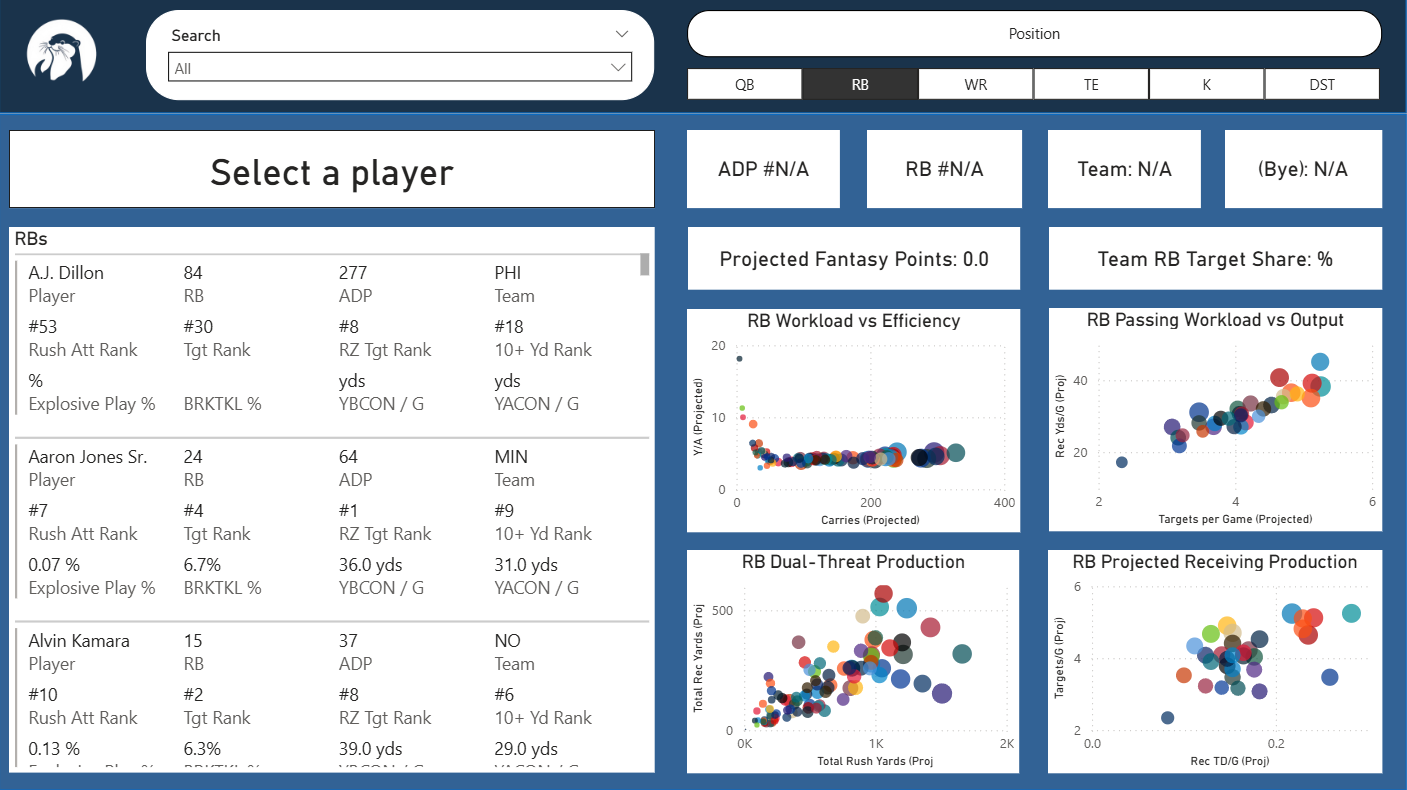

The page's visual inventory and layout, read from the dashboard file:
{"tool":"powerbi","page":{"name":"RB","canvas":[1280,720],"ordinal":2},"visuals":[{"type":"group","id":"g1","title":"Group 15","box":[0,0,1279.7,720],"z":0},{"type":"shape","box":[0,0,1279.7,720],"z":0,"group":"g1"},{"type":"shape","box":[141.3,87.8,624,614.9],"z":0,"group":"g4"},{"type":"shape","box":[16.3,5.4,101.4,697.4],"z":1000,"group":"g3"},{"type":"slicer","fields":{"Values":["all_player_data.Player"]},"box":[443.5,21.7,321.8,48],"z":1000,"group":"g6"},{"type":"pageNavigator","box":[26.8,95.1,80.5,594.1],"z":1000,"group":"g5"},{"type":"shape","box":[1039.7,317.9,225,180.2],"z":1000},{"type":"group","id":"g2","title":"Group 13","box":[141.3,0,1053.3,82.4],"z":1500,"group":"g11"},{"type":"group","id":"g3","title":"Group 5","box":[16.3,5.4,101.4,697.4],"z":2000,"group":"g11"},{"type":"group","id":"g4","title":"Group 2","box":[141.3,87.8,1123.3,614.9],"z":2000},{"type":"shape","box":[790.7,87.8,473.7,215.4],"z":2000,"group":"g4"},{"type":"group","id":"g5","title":"Group 1","box":[26.8,95.1,80.5,594.1],"z":2000,"group":"g7"},{"type":"cardVisual","fields":{"Data":["full_rb_data.RB_Bye_Label"]},"box":[829.5,129.4,99,31.7],"z":3000,"group":"g4"},{"type":"shape","box":[1039.7,517,225,180.2],"z":3000},{"type":"cardVisual","fields":{"Data":["full_rb_data.Selected_RB"]},"box":[790.7,87.8,473.7,48],"z":4000,"group":"g4"},{"type":"shape","box":[791.5,317.9,225,180.2],"z":4000},{"type":"group","id":"g6","title":"Group 9","box":[141.3,14.5,624,63.4],"z":5000,"group":"g2"},{"type":"textbox","box":[141.3,14.5,283.4,40.8],"z":5000,"group":"g6"},{"type":"shape","box":[960,279.8,141.5,28.1],"z":5000,"group":"g4"},{"type":"shape","box":[791.5,517.1,225,180.2],"z":5000},{"type":"image","box":[937.4,0,81.5,82.4],"z":5001,"group":"g10"},{"type":"image","box":[1030.7,0,86.9,77.9],"z":5003,"group":"g9"},{"type":"textbox","box":[142,46.2,283.4,31.7],"z":6000,"group":"g6"},{"type":"multiRowCard","title":"RBs","fields":{"Values":["full_rb_data.Player","full_rb_data.RB","full_rb_data.Overall","full_rb_data.MISC FPTS (Projected)","full_rb_data.Rank_Rush_Att_Label","full_rb_data.Rank_Total_Targets_Label","full_rb_data.Rank_Total_RZ_Targets_Label","full_rb_data.Rank_Total_10yd_Plays_Label","full_rb_data.RB_Explosive_Label","full_rb_data.RB_Broken_Tackles_Percentage","full_rb_data.RB_YBCON_Per_Game_Label","full_rb_data.RB_YACON_Per_Game_Label"]},"box":[150.3,96,608,601],"z":6000},{"type":"cardVisual","fields":{"Data":["full_rb_data.RB_Team_Label"]},"box":[790.7,129.4,60.1,31.7],"z":6000,"group":"g4"},{"type":"shape","box":[791.9,146,472.8,31.7],"z":7000,"group":"g4"},{"type":"scatterChart","title":"RB Workload vs Efficiency (Proj)","fields":{"X":["full_rb_data.RUSHING ATT (Projected)"],"Series":["full_rb_data.Team"],"Size":["full_rb_data.RB__Rushing_TD_Per_Game_Proj"],"Y":["full_rb_data.RB_Yards_Per_Attempt"]},"box":[791.5,322.4,225,175],"z":7000},{"type":"image","box":[25.2,5.4,83.7,89.7],"z":8000,"group":"g7"},{"type":"shape","box":[828.2,222.5,142,28],"z":8000,"group":"g4"},{"type":"scatterChart","title":"RB Passing Workload vs Output (Proj)","fields":{"Series":["full_rb_data.Team"],"X":["full_rb_data.RB_Targets_Per_Game_Proj"],"Y":["full_rb_data.RB__Receiving_Yards_Per_Game_Proj"],"Size":["full_rb_data.RB__Receiving_TD_Per_Game_Proj"]},"box":[1039.7,322,225,175],"z":8000},{"type":"shape","box":[1092.8,222.5,142,28],"z":9000,"group":"g4"},{"type":"scatterChart","title":"RB Dual-Threat Production (Proj)","fields":{"Series":["full_rb_data.Team"],"X":["full_rb_data.RUSHING YDS (Projected)"],"Y":["full_rb_data.RECEIVING YDS (Projected)"],"Size":["full_rb_data.RB_Total_TDs_Per_Game_Proj"]},"box":[791.5,522.6,225,175],"z":9000},{"type":"scatterChart","title":"RB Receiving Production (Proj)","fields":{"Series":["full_rb_data.Team"],"X":["full_rb_data.RB__Receiving_TD_Per_Game_Proj"],"Y":["full_rb_data.RB_Targets_Per_Game_Proj"],"Size":["full_rb_data.RB__Receiving_Yards_Per_Game_Proj"]},"box":[1039,522,225,175],"z":10000},{"type":"shape","box":[1093.2,9.1,101.4,64.3],"z":11000,"group":"g8"},{"type":"card","fields":{"Values":["full_rb_data.RB_Target_Share_Label"]},"box":[1082.3,96,164.8,65.2],"z":11000},{"type":"group","id":"g7","title":"Group 4","box":[25.2,5.4,83.7,683.8],"z":11001,"group":"g3"},{"type":"group","id":"g8","title":"Group 10","box":[1093.2,9.1,101.4,64.3],"z":11001,"group":"g9"},{"type":"group","id":"g9","title":"Group 11","box":[1030.7,0,163.9,77.9],"z":11002,"group":"g10"},{"type":"group","id":"g10","title":"Group 12","box":[937.4,0,257.2,82.4],"z":11003,"group":"g2"},{"type":"group","id":"g11","title":"Group 14","box":[16.3,0,1178.3,702.8],"z":11005,"group":"g1"},{"type":"image","box":[1164.7,2.7,95.1,77.9],"z":12000},{"type":"card","fields":{"Values":["full_rb_data.Player_RB__Rank_Label"]},"box":[790,166,209,70.6],"z":13000},{"type":"card","fields":{"Values":["full_rb_data.RB_ADP_Label"]},"box":[1093.1,166,142,70.6],"z":14000},{"type":"card","fields":{"Values":["full_rb_data.RB_Fantasy_Point_Label"]},"box":[927,225,204,66],"z":15000}]}

Visuals, with their boxes in screenshot pixels (x1, y1, x2, y2), scaled from the page's 1280x720 canvas onto the 1407x790 screenshot:
"Group 15" group: BBox(0, 0, 1406, 789)
shape: BBox(0, 0, 1406, 789)
shape: BBox(155, 96, 841, 771)
shape: BBox(18, 6, 129, 771)
slicer - all_player_data.Player: BBox(488, 24, 841, 76)
pageNavigator: BBox(29, 104, 118, 756)
shape: BBox(1143, 349, 1390, 547)
"Group 13" group: BBox(155, 0, 1313, 90)
"Group 5" group: BBox(18, 6, 129, 771)
"Group 2" group: BBox(155, 96, 1390, 771)
shape: BBox(869, 96, 1390, 333)
"Group 1" group: BBox(29, 104, 118, 756)
cardVisual - full_rb_data.RB_Bye_Label: BBox(912, 142, 1021, 177)
shape: BBox(1143, 567, 1390, 765)
cardVisual - full_rb_data.Selected_RB: BBox(869, 96, 1390, 149)
shape: BBox(870, 349, 1117, 547)
"Group 9" group: BBox(155, 16, 841, 85)
textbox: BBox(155, 16, 467, 61)
shape: BBox(1055, 307, 1211, 338)
shape: BBox(870, 567, 1117, 765)
image: BBox(1030, 0, 1120, 90)
image: BBox(1133, 0, 1228, 85)
textbox: BBox(156, 51, 468, 85)
"RBs" multiRowCard: BBox(165, 105, 834, 765)
cardVisual - full_rb_data.RB_Team_Label: BBox(869, 142, 935, 177)
shape: BBox(870, 160, 1390, 195)
"RB Workload vs Efficiency (Proj)" scatterChart: BBox(870, 354, 1117, 546)
image: BBox(28, 6, 120, 104)
shape: BBox(910, 244, 1066, 275)
"RB Passing Workload vs Output (Proj)" scatterChart: BBox(1143, 353, 1390, 545)
shape: BBox(1201, 244, 1357, 275)
"RB Dual-Threat Production (Proj)" scatterChart: BBox(870, 573, 1117, 765)
"RB Receiving Production (Proj)" scatterChart: BBox(1142, 573, 1389, 765)
shape: BBox(1202, 10, 1313, 81)
card - full_rb_data.RB_Target_Share_Label: BBox(1190, 105, 1371, 177)
"Group 4" group: BBox(28, 6, 120, 756)
"Group 10" group: BBox(1202, 10, 1313, 81)
"Group 11" group: BBox(1133, 0, 1313, 85)
"Group 12" group: BBox(1030, 0, 1313, 90)
"Group 14" group: BBox(18, 0, 1313, 771)
image: BBox(1280, 3, 1385, 88)
card - full_rb_data.Player_RB__Rank_Label: BBox(868, 182, 1098, 260)
card - full_rb_data.RB_ADP_Label: BBox(1202, 182, 1358, 260)
card - full_rb_data.RB_Fantasy_Point_Label: BBox(1019, 247, 1243, 319)
